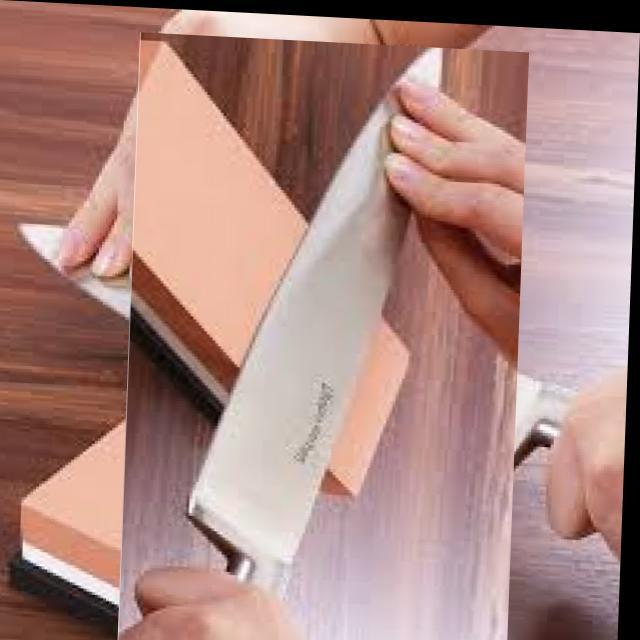knife: (181, 50, 444, 602)
